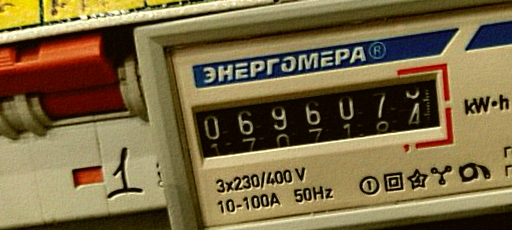0: (335, 92, 357, 124), (202, 113, 222, 142)
4: (404, 98, 424, 129)
6: (303, 97, 323, 128), (236, 107, 256, 137)
7: (369, 88, 392, 121)
9: (268, 103, 290, 133)
screen: (177, 59, 462, 177)
